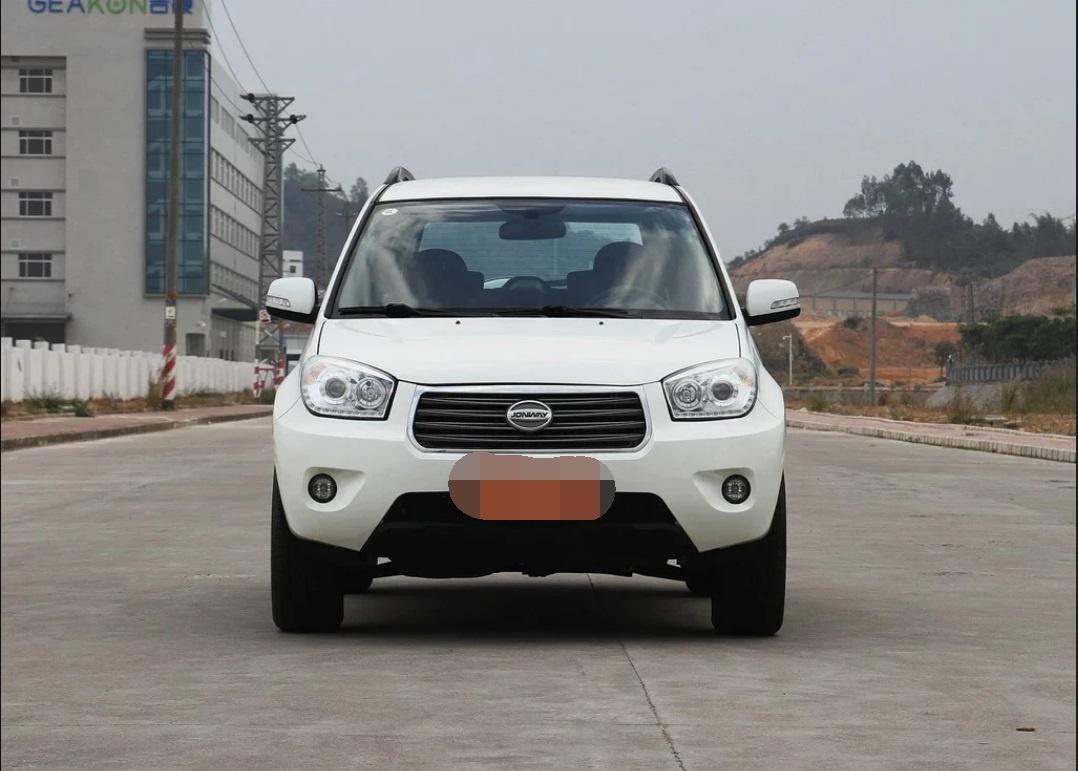SUV: (251, 139, 861, 642)
